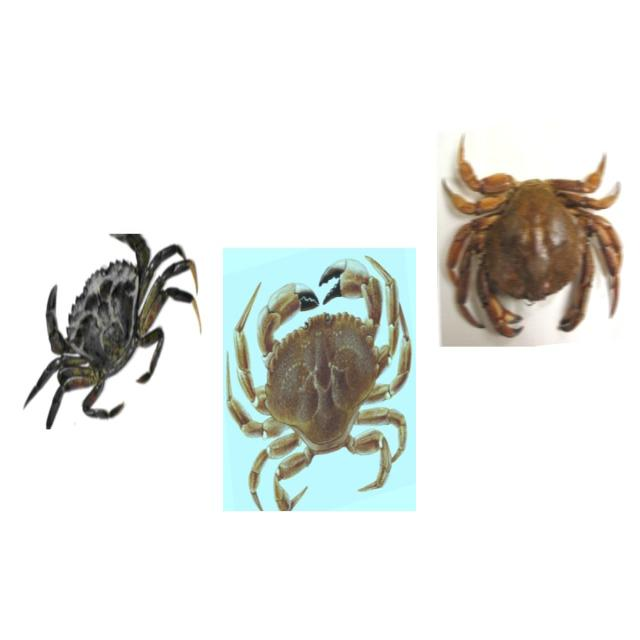egc: (22, 233, 199, 431)
jonah_crab: (223, 248, 411, 510)
rock_crab: (438, 128, 630, 345)
